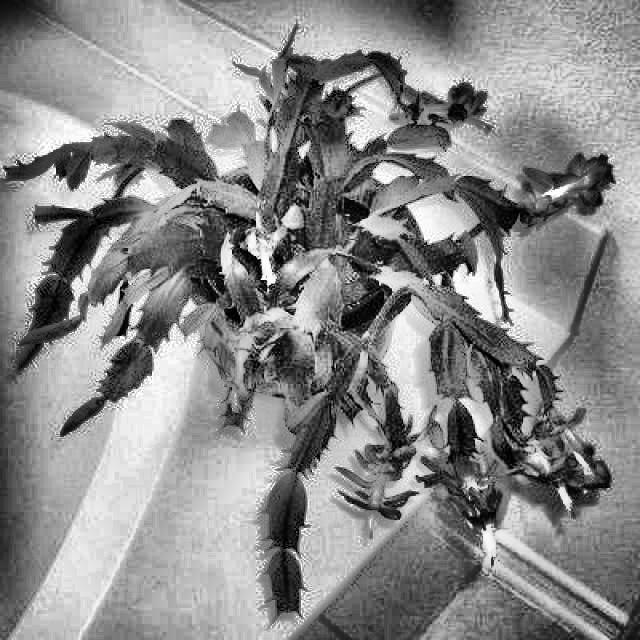plants: (4, 33, 638, 624)
